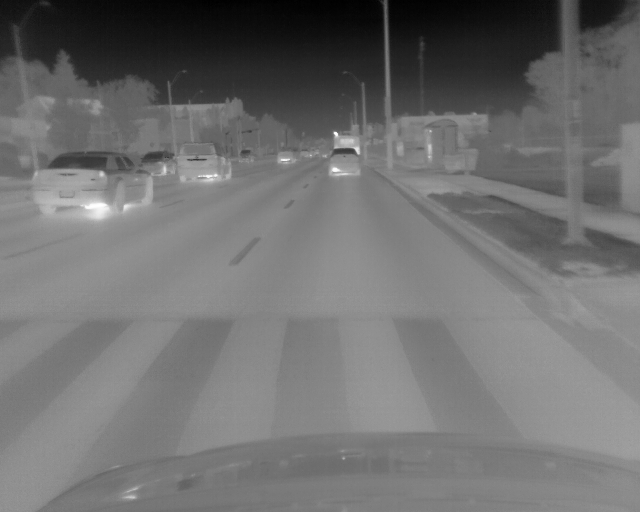car: (30, 153, 154, 219), (176, 143, 232, 182), (145, 149, 178, 177), (328, 148, 360, 176), (333, 133, 360, 155), (275, 148, 295, 165), (239, 148, 254, 164), (300, 147, 311, 158)
